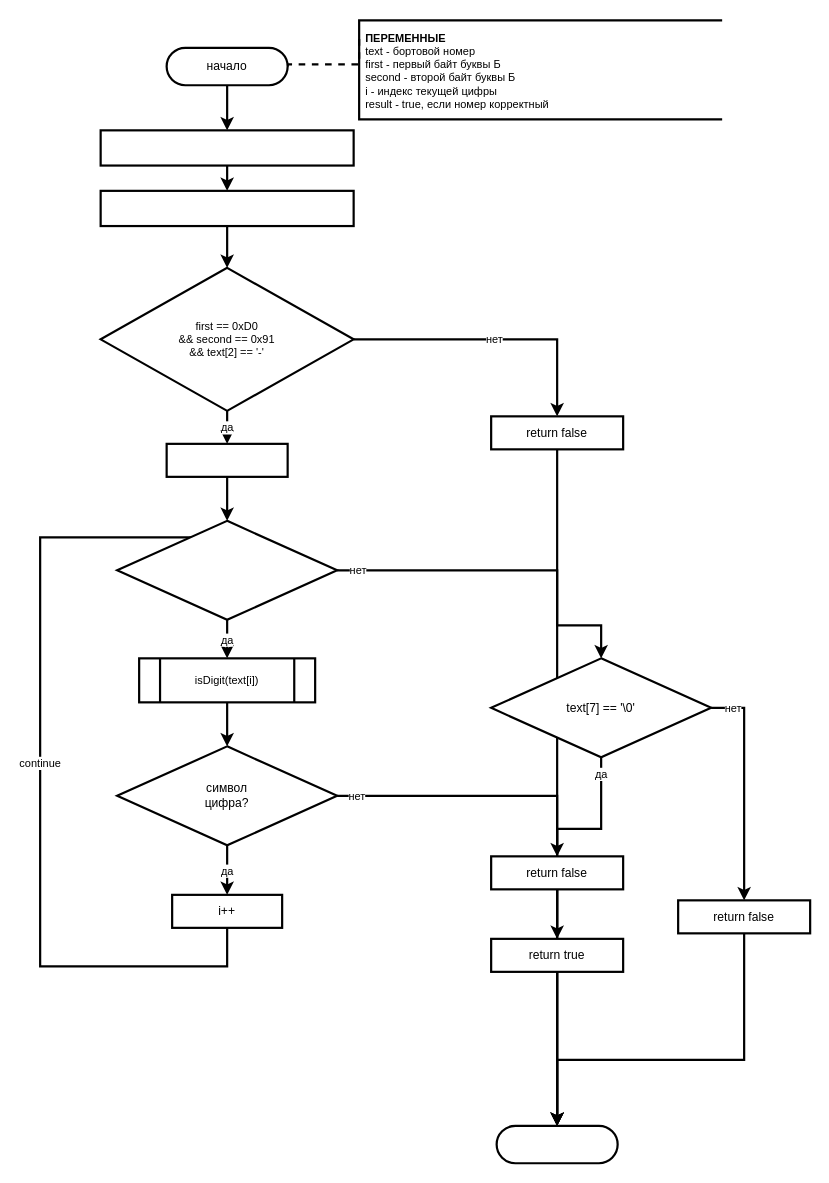
Image size: 829x1183. Some labels were removed from this diagram. Here are the shapes that lost their labels. From the top down, the centre of each, then its label:
the point at 226,147: first = (unsigned char)text[0]
the point at 226,208: second = (unsigned char)text[1]
the point at 226,459: i = 3
the point at 227,569: i < 7
the point at 556,1144: конец
